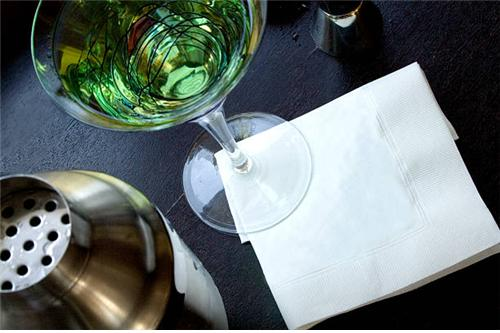alcohol: (31, 0, 318, 237)
